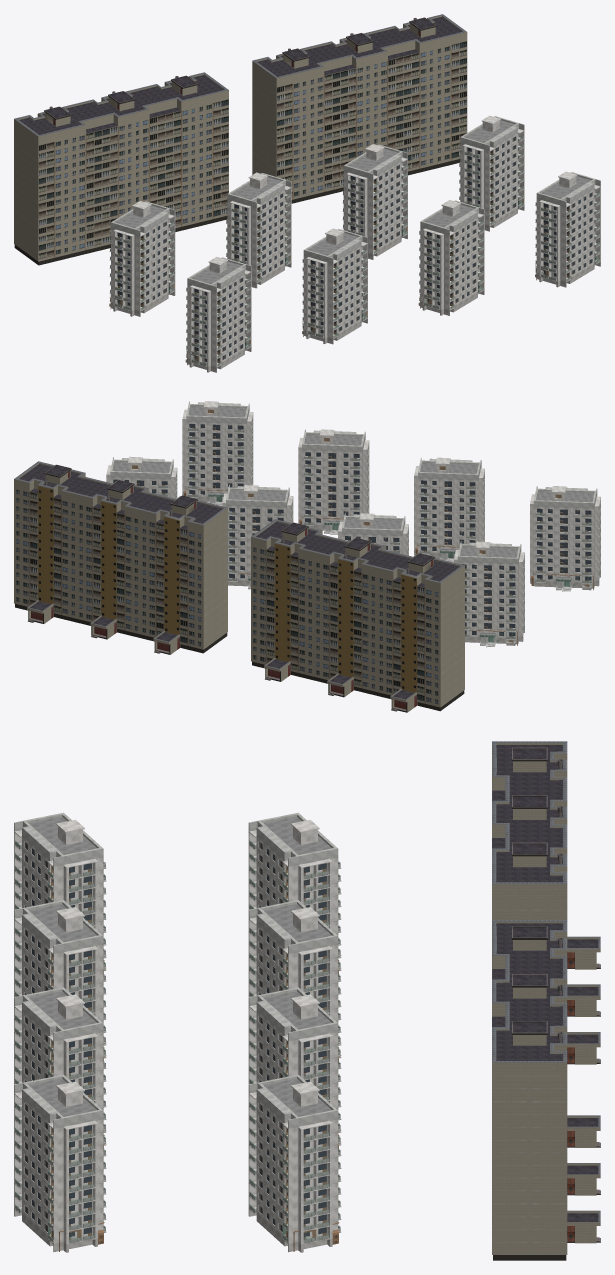
Rendered from pripyat_blocks.obj.
3 renders of one model, top to bottom at view 1: azimuth 30°, elevation 25°; view 2: azimuth 150°, elevation 25°; view 3: azimuth 270°, elevation 25°, orthographic. The views are drawn at different scales.
Parts seen in each view (by area): view 1: Tower4_concrate2, Tower0_concrate2, Tower6_concrate2, Tower5_concrate2, Tower7_concrate2, Tower3_concrate2, Tower1_concrate2, Tower2_concrate2, Slab0_-1_None_dombokwall_png, Slab1_-1_None_dombokwall_png, Slab0_3_None_my16wins3_png, Slab0_3_None_my16wins1_png (+94 smaller); view 2: Tower4_concrate2, Tower6_concrate2, Tower7_concrate2, Tower5_concrate2, Tower0_concrate2, Slab0_-1_None_dombokwall_png, Slab1_-1_None_dombokwall_png, Tower2_concrate2, Slab0_3_None_podezdwall_png, Slab0_0_None_podezdwall_png, Slab1_3_None_podezdwall_png, Slab1_0_None_podezdwall_png (+95 smaller); view 3: Slab1_4_None_dombokwall_png, Tower3_concrate2, Tower7_concrate2, Tower0_concrate2, Tower1_concrate2, Tower2_concrate2, Tower4_concrate2, Tower6_concrate2, Tower5_concrate2, Slab0_3_None_krisha_png, Slab1_3_None_krisha_png, Slab1_2_None_krisha_png (+54 smaller).
Boxes of the visible parts, left/top/right/bottom form: Tower4_concrate2: left=187, top=257, right=251, bottom=367; Tower0_concrate2: left=111, top=201, right=175, bottom=311; Tower6_concrate2: left=420, top=200, right=484, bottom=310; Tower5_concrate2: left=304, top=228, right=367, bottom=338; Tower7_concrate2: left=537, top=171, right=600, bottom=281; Tower3_concrate2: left=460, top=115, right=524, bottom=226; Tower1_concrate2: left=227, top=172, right=291, bottom=282; Tower2_concrate2: left=344, top=144, right=407, bottom=254; Slab0_-1_None_dombokwall_png: left=14, top=119, right=38, bottom=261; Slab1_-1_None_dombokwall_png: left=252, top=61, right=276, bottom=176; Slab0_3_None_my16wins3_png: left=181, top=119, right=213, bottom=160; Slab0_3_None_my16wins1_png: left=181, top=186, right=213, bottom=226; Tower4_concrate2: left=530, top=486, right=600, bottom=582; Tower6_concrate2: left=298, top=429, right=369, bottom=524; Tower7_concrate2: left=182, top=401, right=253, bottom=496; Tower5_concrate2: left=414, top=457, right=484, bottom=553; Tower0_concrate2: left=454, top=541, right=524, bottom=638; Slab0_-1_None_dombokwall_png: left=440, top=565, right=464, bottom=706; Slab1_-1_None_dombokwall_png: left=203, top=507, right=227, bottom=649; Tower2_concrate2: left=222, top=485, right=293, bottom=580; Slab0_3_None_podezdwall_png: left=274, top=544, right=290, bottom=661; Slab0_0_None_podezdwall_png: left=401, top=574, right=416, bottom=692; Slab1_3_None_podezdwall_png: left=38, top=486, right=53, bottom=604; Slab1_0_None_podezdwall_png: left=164, top=517, right=179, bottom=634; Slab1_4_None_dombokwall_png: left=492, top=1062, right=567, bottom=1254; Tower3_concrate2: left=248, top=1081, right=337, bottom=1244; Tower7_concrate2: left=14, top=1081, right=103, bottom=1244; Tower0_concrate2: left=248, top=819, right=337, bottom=935; Tower1_concrate2: left=248, top=907, right=337, bottom=1022; Tower2_concrate2: left=248, top=994, right=337, bottom=1109; Tower4_concrate2: left=14, top=819, right=103, bottom=935; Tower6_concrate2: left=14, top=994, right=103, bottom=1109; Tower5_concrate2: left=14, top=907, right=103, bottom=1022; Slab0_3_None_krisha_png: left=496, top=843, right=598, bottom=1043; Slab1_3_None_krisha_png: left=496, top=1022, right=598, bottom=1221; Slab1_2_None_krisha_png: left=492, top=975, right=593, bottom=1174.
Size of the model in its own units: 162 by 49.31 by 125.
Materials: 37 (37 with a texture image).
